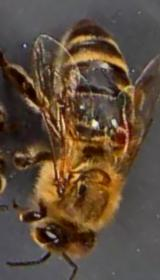varroa_mite: (100, 115, 132, 154)
